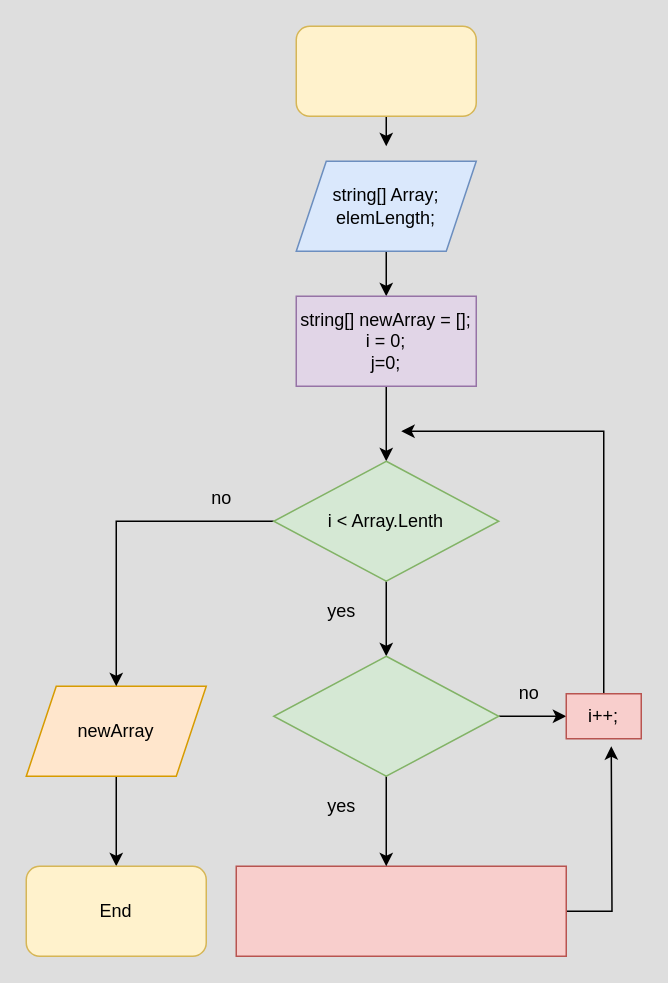
This 668x983 diagram has some shape labels left out. The shapes that lost their labels are listed below. From the top down, each one's box as (x1, y1, x2, y2) in pixels, then its label:
(295, 25, 476, 116): Start
(272, 655, 499, 776): Array[i].lenth <= elemLength;
(235, 865, 566, 956): newArray[j] = Array[i]; j++;
